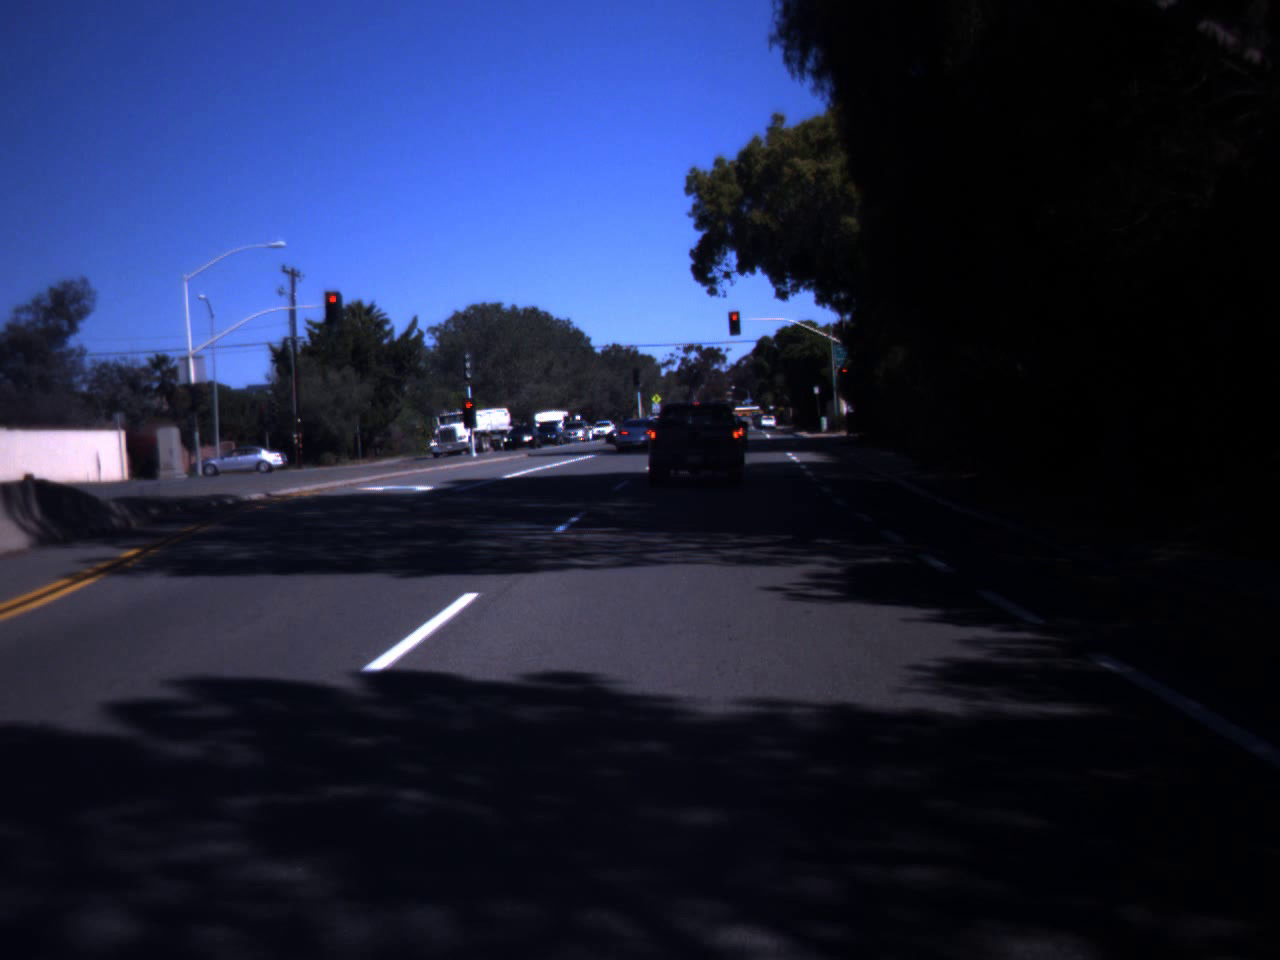stop: (324, 293, 342, 320), (460, 399, 478, 426), (837, 366, 852, 384), (728, 312, 740, 334)
